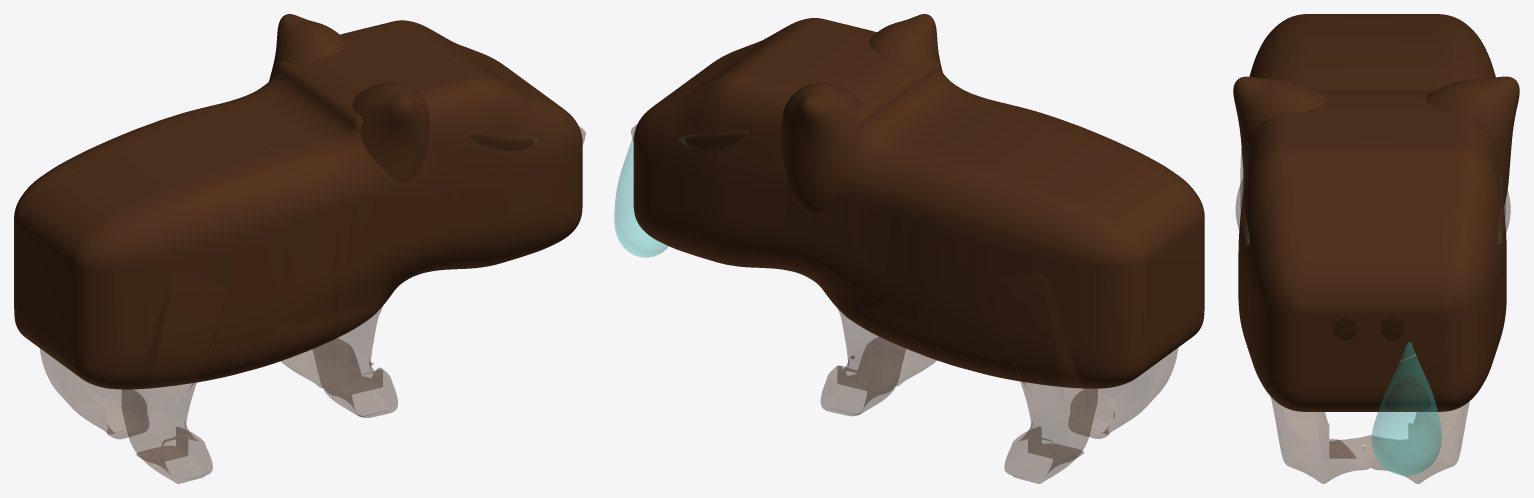
File: capy-edited-in-blender-transformed.glb
3 views of the same model, side by side, from view 1: azimuth 30°, elevation 25°; view 2: azimuth 150°, elevation 25°; view 3: azimuth 270°, elevation 25° (orthographic). The views are drawn at different scales.
Visible parts, largest first — view 1: body, back legs, eyes & snout; view 2: body, back legs, snot, eyes & snout; view 3: body, back legs, eyes & snout, snot, nostrils.
Boxes of the visible parts, left/top/right/bottom form: body: left=14, top=14, right=582, bottom=389; back legs: left=40, top=264, right=397, bottom=483; eyes & snout: left=468, top=126, right=585, bottom=150; body: left=633, top=14, right=1204, bottom=388; back legs: left=821, top=274, right=1177, bottom=483; snot: left=614, top=137, right=668, bottom=257; eyes & snout: left=631, top=124, right=748, bottom=149; body: left=1233, top=14, right=1519, bottom=411; back legs: left=1240, top=150, right=1505, bottom=483; eyes & snout: left=1236, top=175, right=1510, bottom=365; snot: left=1372, top=342, right=1441, bottom=475; nostrils: left=1334, top=317, right=1403, bottom=339.
Size of the model in its own units: 452 by 283 by 180.
6 materials, 4 textured.
